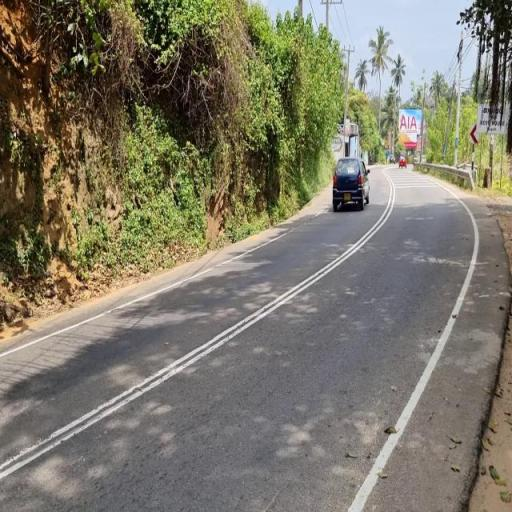double_white_line: (0, 172, 392, 486)
